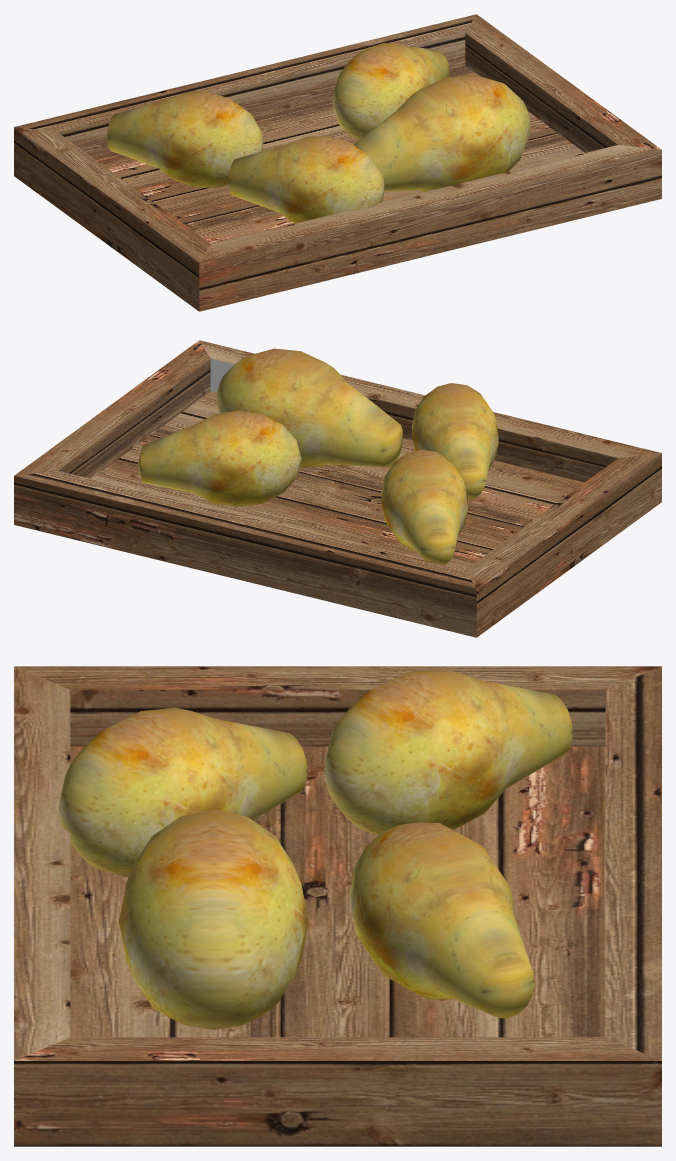
The model's file is fruit_veg7.dae.
3 views of the same model, one above another, from view 1: azimuth 30°, elevation 25°; view 2: azimuth 150°, elevation 25°; view 3: azimuth 270°, elevation 25° (orthographic). The views are drawn at different scales.
Visible parts, largest first — view 1: meshU3D; view 2: meshU3D; view 3: meshU3D.
Boxes of the visible parts, x1,y1,x2,y2 form: meshU3D: (14, 14, 661, 311); meshU3D: (14, 340, 661, 637); meshU3D: (14, 666, 661, 1146).
Bounding box in the file's own units: 34.58 × 8.05 × 23.99.
